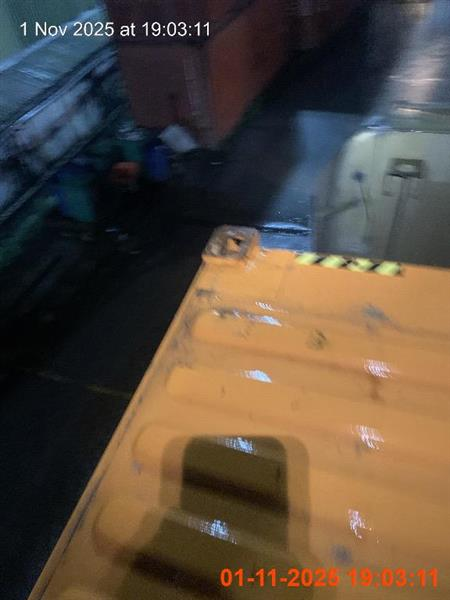hole: (28, 223, 448, 599)
